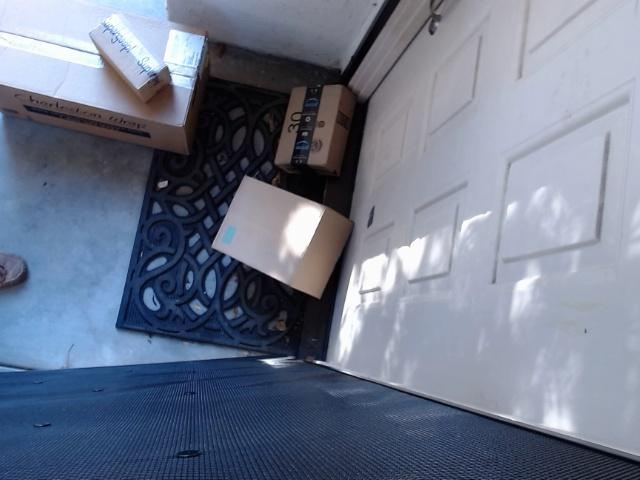box: (0, 0, 214, 156), (206, 172, 352, 321), (262, 72, 375, 167), (90, 9, 177, 110)
